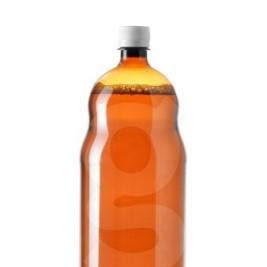beer: (78, 26, 188, 267)
